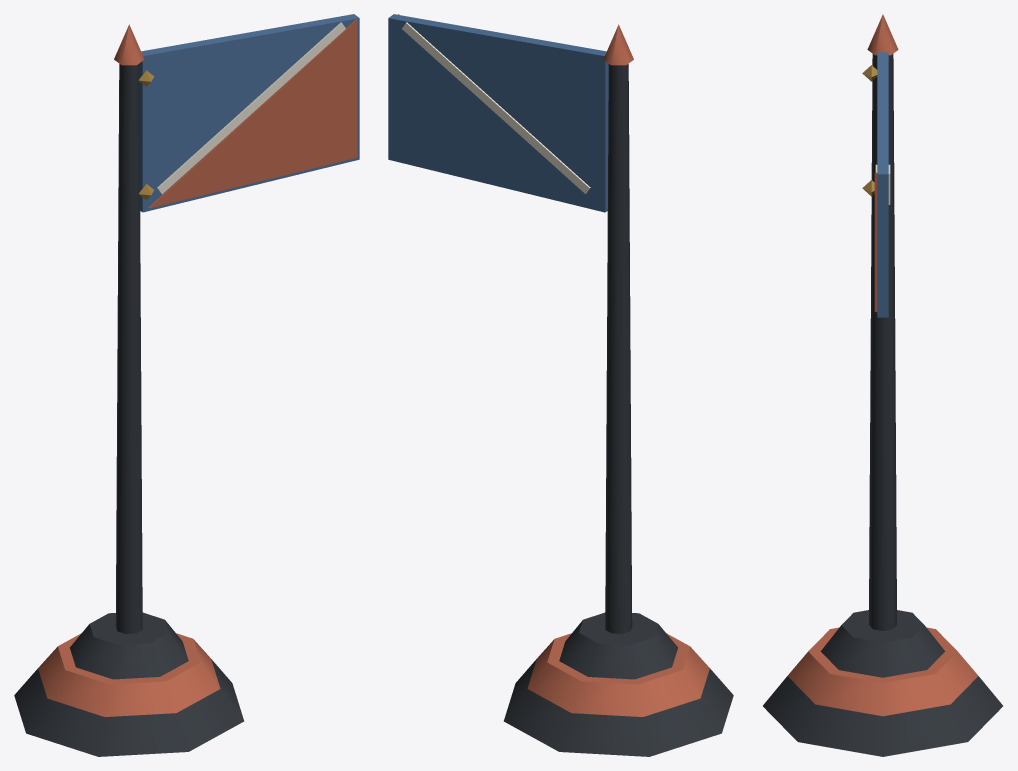
Rendered from checkpoint-flag.glb.
3 views of the same model, side by side, from view 1: azimuth 30°, elevation 25°; view 2: azimuth 150°, elevation 25°; view 3: azimuth 270°, elevation 25° (orthographic).
Parts seen in each view (by area): view 1: Merged_city-metal-dark, Merged_prop-accent, Merged_checkpoint-flag-blue, Merged_city-poster-surface; view 2: Merged_checkpoint-flag-blue, Merged_city-metal-dark, Merged_prop-accent, Merged_city-poster-surface; view 3: Merged_city-metal-dark, Merged_prop-accent, Merged_checkpoint-flag-blue.
Boxes of the visible parts, <box> form: Merged_city-metal-dark: <box>14,64,244,756</box>; Merged_prop-accent: <box>38,19,357,716</box>; Merged_checkpoint-flag-blue: <box>139,14,359,212</box>; Merged_city-poster-surface: <box>157,22,345,194</box>; Merged_checkpoint-flag-blue: <box>388,14,608,212</box>; Merged_city-metal-dark: <box>503,64,733,756</box>; Merged_prop-accent: <box>398,14,709,716</box>; Merged_city-poster-surface: <box>402,22,590,194</box>; Merged_city-metal-dark: <box>763,54,1002,756</box>; Merged_prop-accent: <box>787,14,978,716</box>; Merged_checkpoint-flag-blue: <box>877,52,888,317</box>.
Size of what is drawn, in the model's own units: 1.86 by 3.67 by 1.16.
